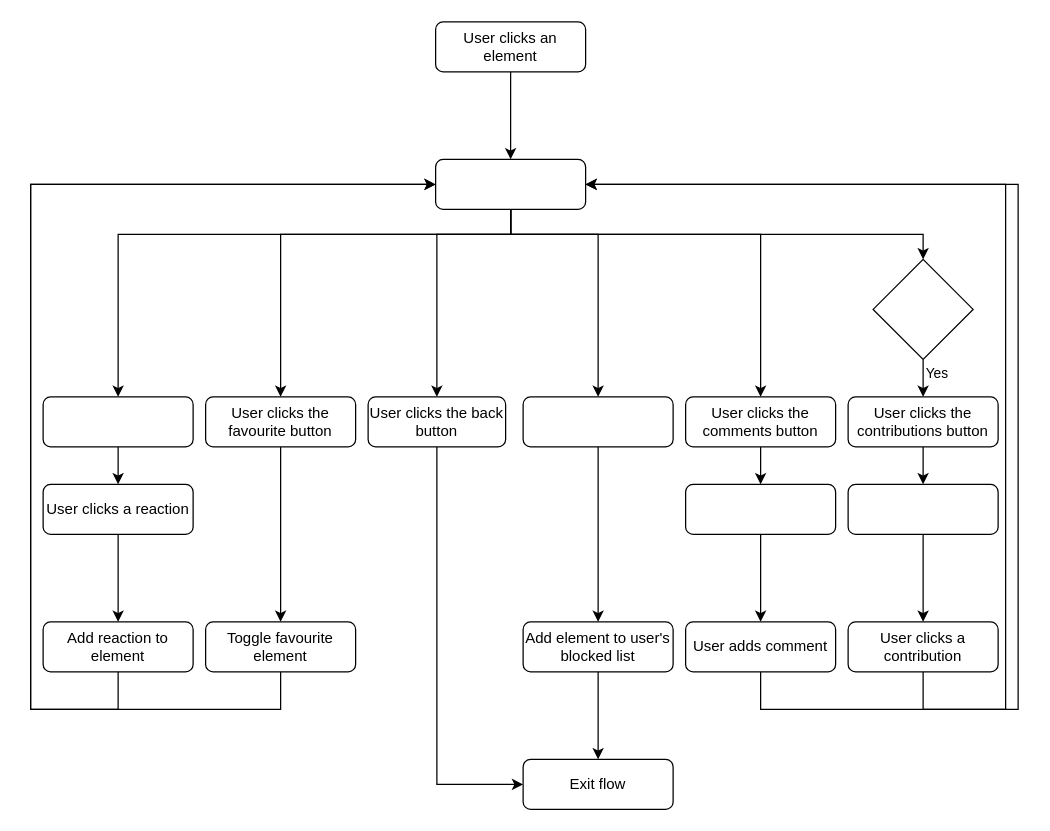
This 1050x831 diagram has some shape labels left out. Here are the shapes that lost their labels. From the top down, the centre of each, then its label:
(510,183): Fetch element/contribution
(922,308): Contribution?
(117,421): User clicks the reactions button
(597,421): User clicks the hide button
(760,508): Load element comments
(922,508): Load contributions
